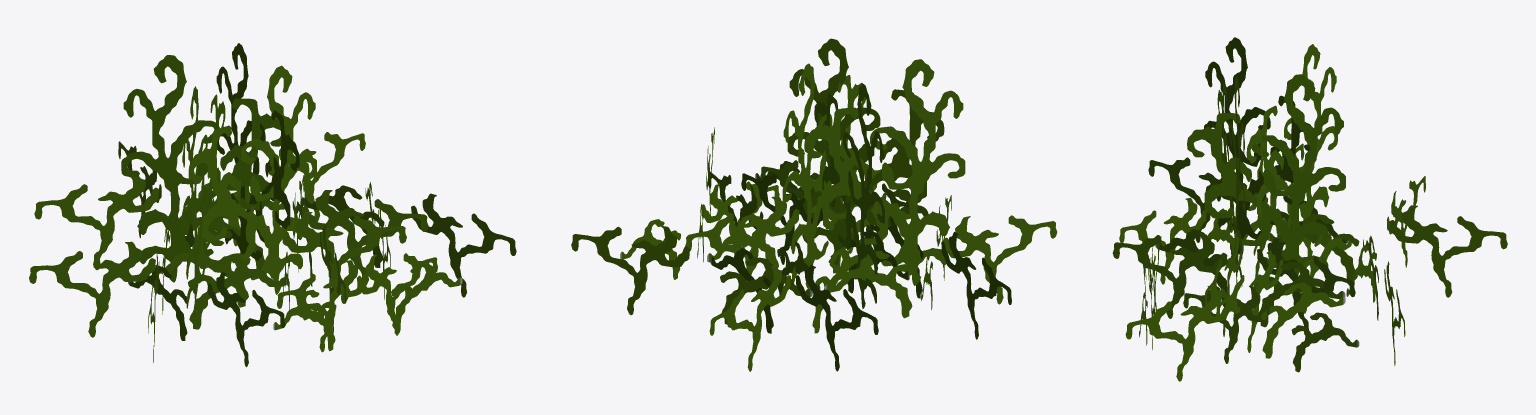
The model's file is herb04.obj.
3 views of the same model, side by side, from view 1: azimuth 30°, elevation 25°; view 2: azimuth 150°, elevation 25°; view 3: azimuth 270°, elevation 25° (orthographic). The views are drawn at different scales.
Visible parts, largest first — view 1: Duplicate30, Duplicate29, Duplicate28, Duplicate10, Duplicate14; view 2: Duplicate28, Duplicate30, Duplicate29, Duplicate14, Duplicate10; view 3: Duplicate30, Duplicate28, Duplicate10, Duplicate29, Duplicate14.
Part boxes in pixels (bbox=[...]): Duplicate30: bbox=[34, 141, 516, 367]; Duplicate29: bbox=[121, 55, 316, 294]; Duplicate28: bbox=[29, 132, 437, 362]; Duplicate10: bbox=[216, 43, 299, 260]; Duplicate14: bbox=[182, 86, 225, 308]; Duplicate28: bbox=[571, 160, 1057, 339]; Duplicate30: bbox=[697, 127, 951, 371]; Duplicate29: bbox=[787, 38, 944, 308]; Duplicate14: bbox=[804, 59, 965, 285]; Duplicate10: bbox=[782, 63, 865, 288]; Duplicate30: bbox=[1112, 176, 1507, 381]; Duplicate28: bbox=[1142, 143, 1405, 372]; Duplicate10: bbox=[1187, 74, 1345, 276]; Duplicate29: bbox=[1217, 44, 1337, 286]; Duplicate14: bbox=[1204, 37, 1310, 254].
Size of the model in its own units: 31.5 by 19.08 by 29.37.
